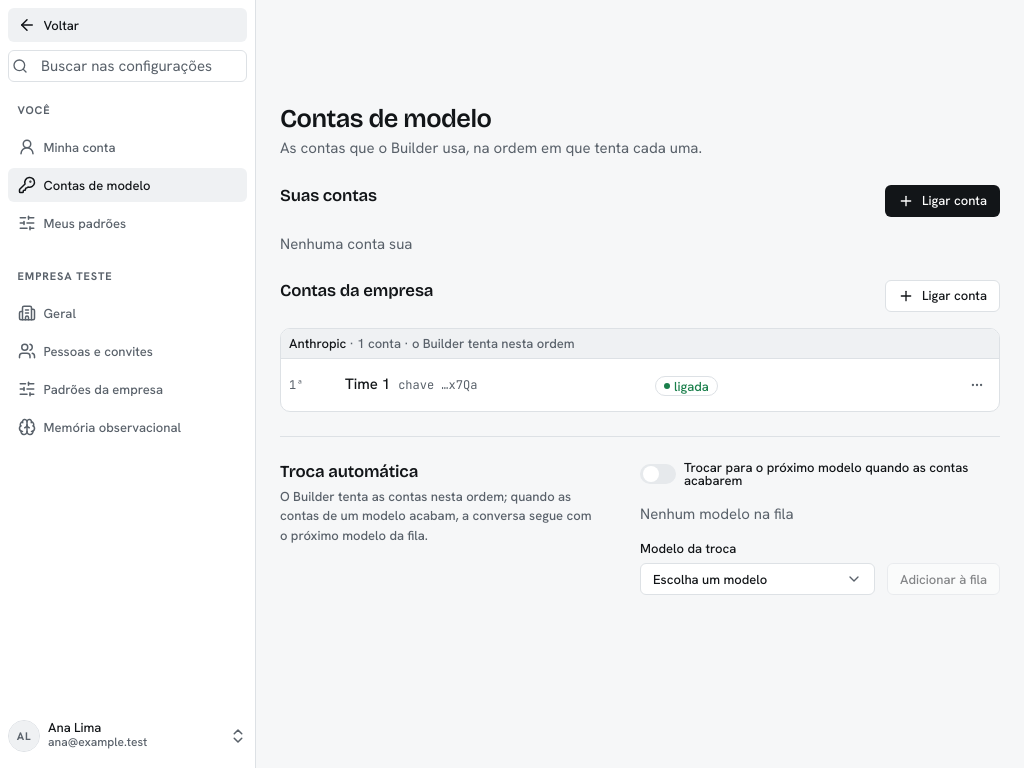
Scenario: Remover: o aviso do Console, Esc devolve o foco ao …, e a confirmação apaga a conta e leva o foco à parte da página
(page scrolled)
Click the button named "Mais ações para Time 1" at (977, 385), box 963,371 -> 991,399
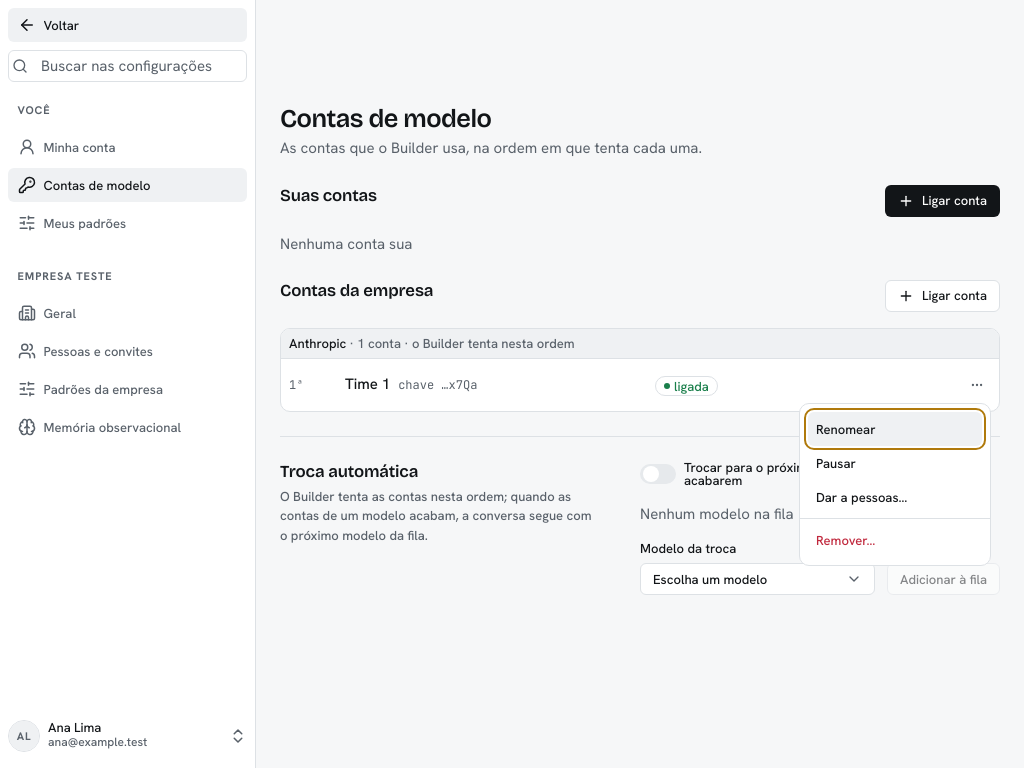
Click the menu item "Remover…" at (846, 540), box 816,532 -> 875,548
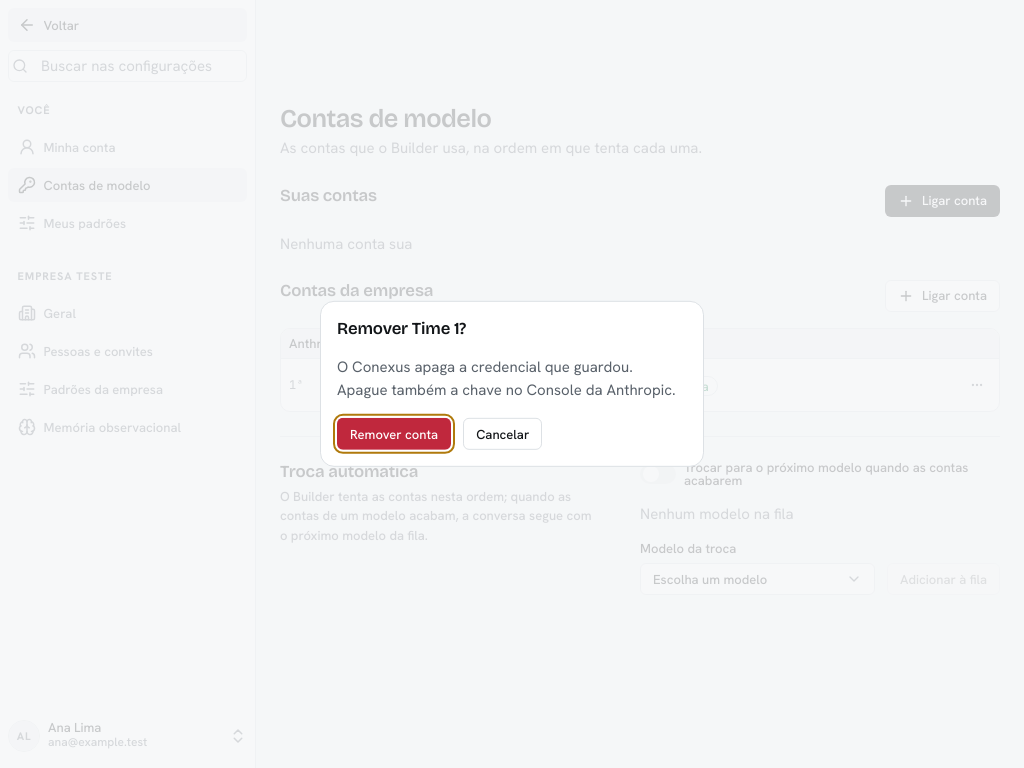
Now the text "Apague também a chave no Console da Anthropic." is shown, box 337,357 -> 676,400
Press Escape in the dialog "Remover Time 1?", box 320,301 -> 704,467
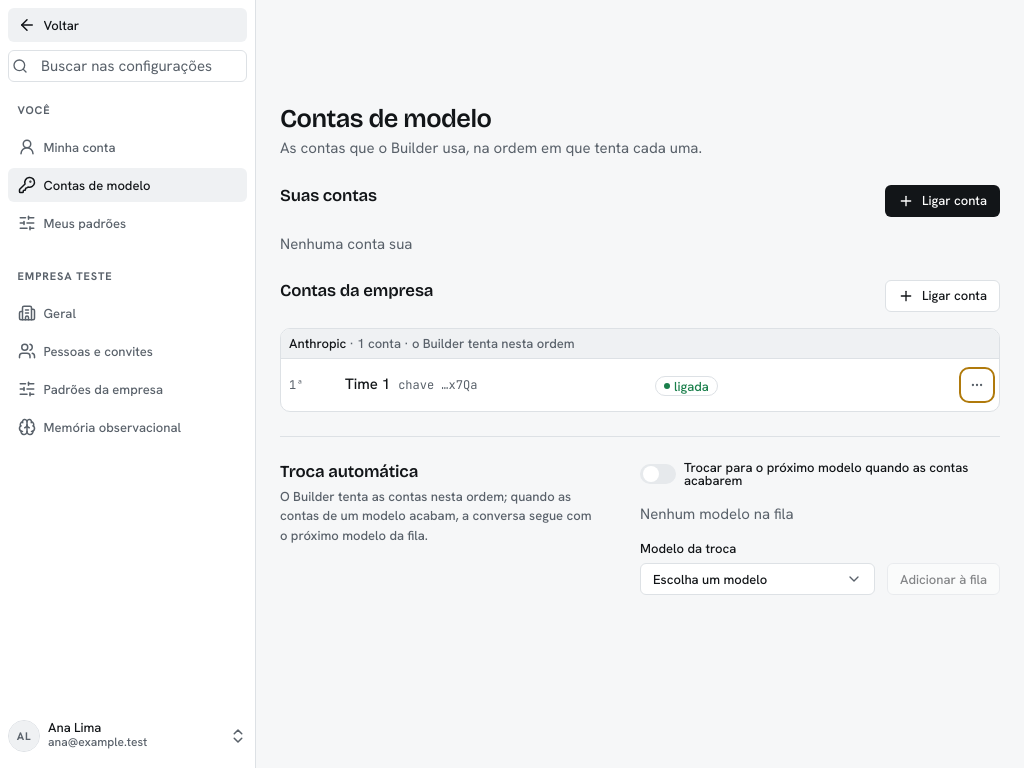
Now the dialog is gone
Click the button named "Mais ações para Time 1" at (977, 385), box 963,371 -> 991,399
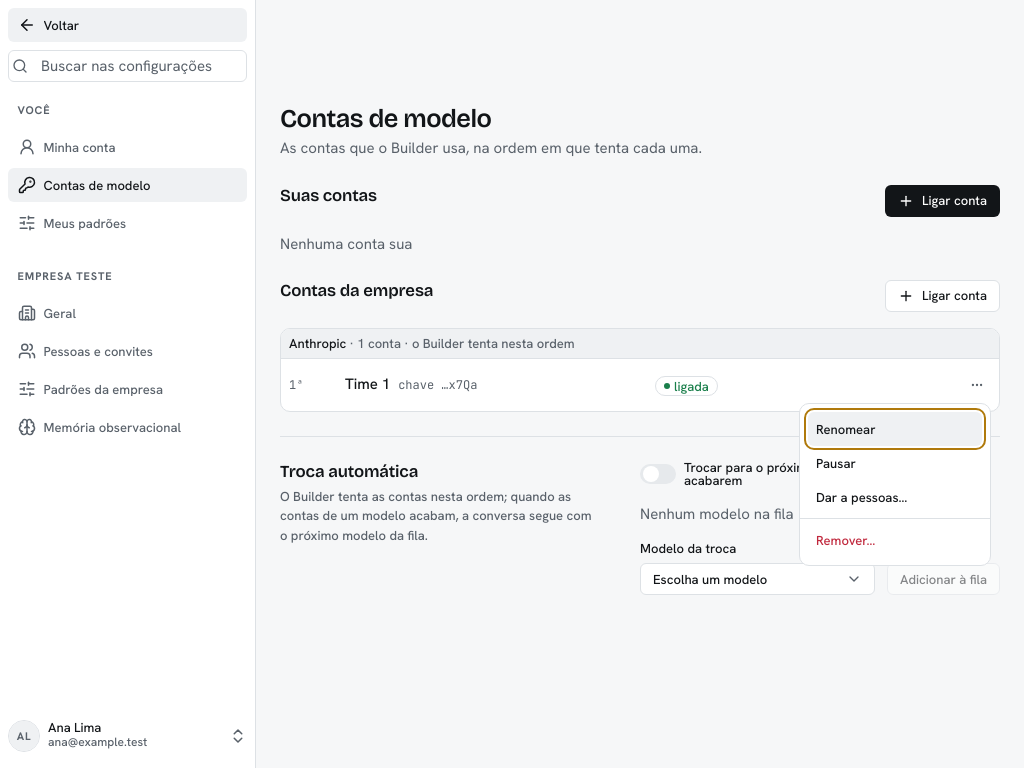
Click the menu item "Remover…" at (846, 540), box 816,532 -> 875,548
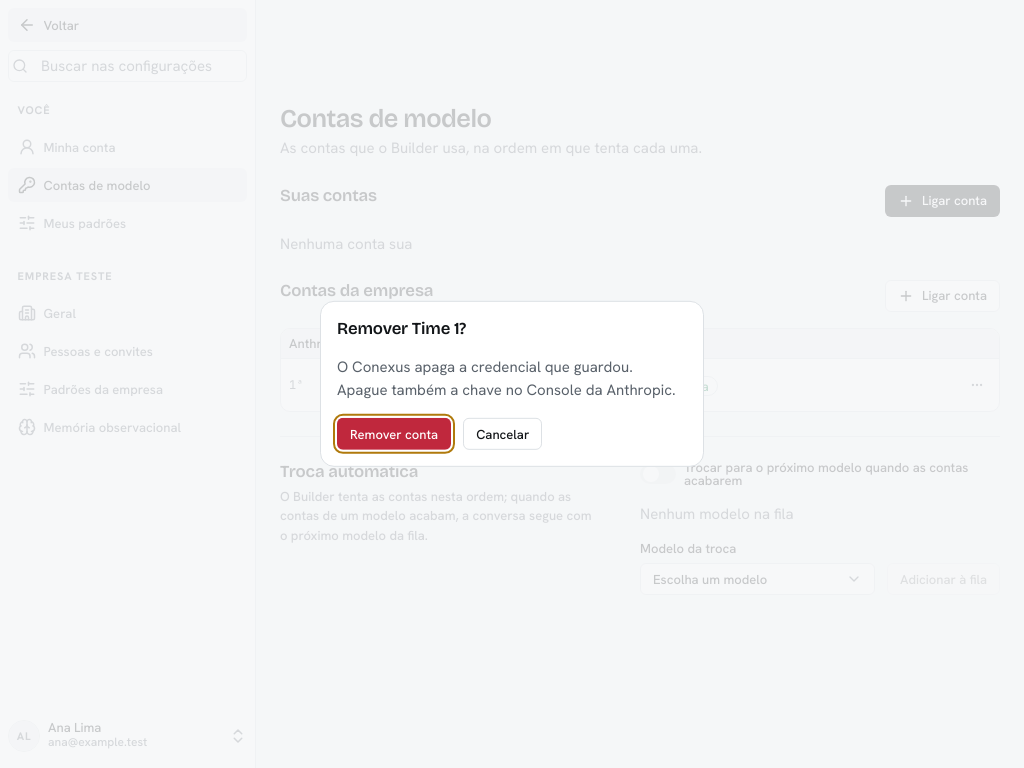
Click the button "Remover conta" at (394, 434), box 337,418 -> 451,450
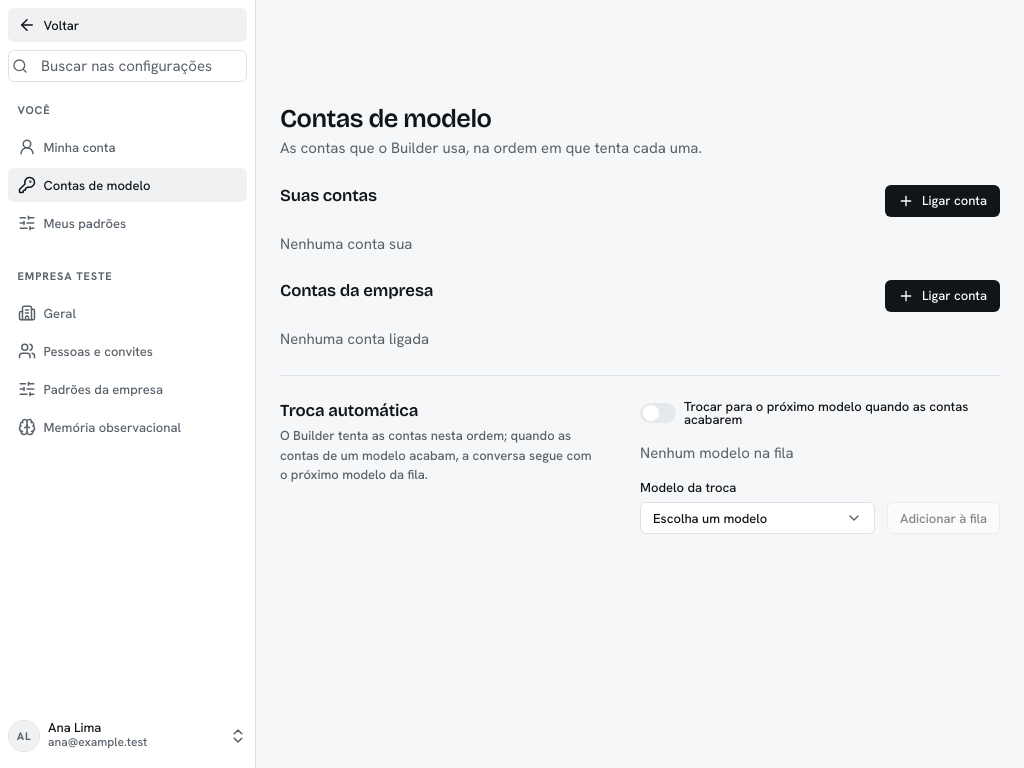
Now the text "Nenhuma conta ligada" is shown, box 280,329 -> 429,349
